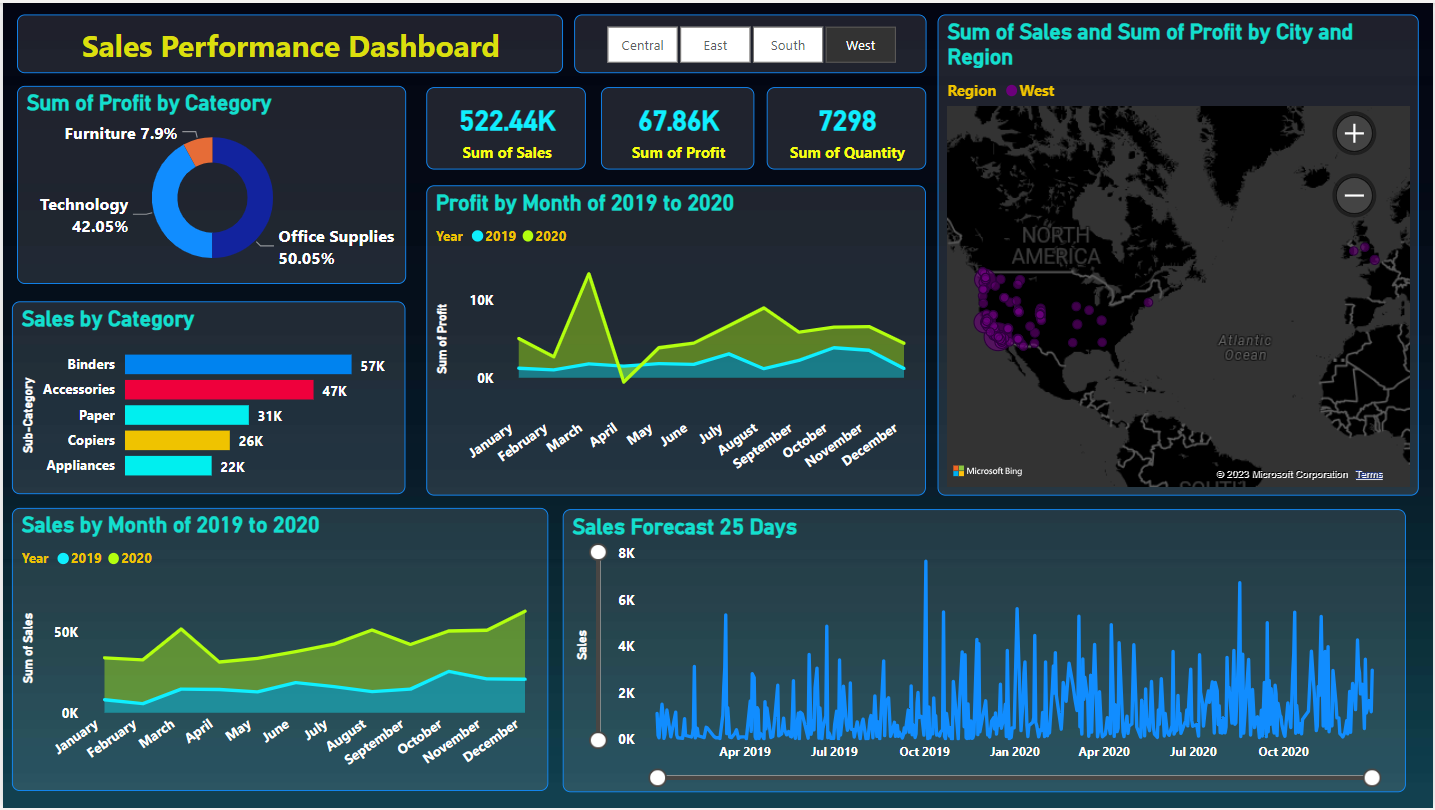

What the dashboard file says about the page in this screenshot:
{"tool":"powerbi","page":{"name":"Page 1","canvas":[1280,720],"ordinal":0},"visuals":[{"type":"clusteredBarChart","title":"Sales by Category","fields":{"Category":["SuperStore_Sales_Dataset.Sub-Category"],"Y":["Sum(SuperStore_Sales_Dataset.Sales)"]},"box":[8.5,267.5,352.4,172.7],"z":0},{"type":"stackedAreaChart","title":"Profit by Month of 2019 to 2020","fields":{"Category":["SuperStore_Sales_Dataset.Order Date.Variation.Date Hierarchy.Month","SuperStore_Sales_Dataset.Order Date.Variation.Date Hierarchy.Day"],"Series":["SuperStore_Sales_Dataset.Order Date.Variation.Date Hierarchy.Year"],"Y":["Sum(SuperStore_Sales_Dataset.Profit)"]},"box":[379.3,162.8,447.3,277.4],"z":1000},{"type":"stackedAreaChart","title":"Sales by Month of 2019 to 2020","fields":{"Category":["SuperStore_Sales_Dataset.Order Date.Variation.Date Hierarchy.Month","SuperStore_Sales_Dataset.Order Date.Variation.Date Hierarchy.Day"],"Series":["SuperStore_Sales_Dataset.Order Date.Variation.Date Hierarchy.Year"],"Y":["Sum(SuperStore_Sales_Dataset.Sales)"]},"box":[8.5,451.5,479.8,253.4],"z":2000},{"type":"map","fields":{"Category":["SuperStore_Sales_Dataset.City"],"Size":["Sum(SuperStore_Sales_Dataset.Sales)"],"Series":["SuperStore_Sales_Dataset.Region"]},"box":[836.5,9.9,430.3,430.3],"z":3000},{"type":"donutChart","fields":{"Y":["Sum(SuperStore_Sales_Dataset.Profit)"],"Category":["SuperStore_Sales_Dataset.Category"]},"box":[12.7,73.6,348.2,176.9],"z":4000},{"type":"textbox","box":[12.7,9.9,488.3,52.4],"z":5000},{"type":"slicer","fields":{"Values":["SuperStore_Sales_Dataset.Region"]},"box":[511,9.9,315.6,52.4],"z":6000},{"type":"card","fields":{"Values":["Sum(SuperStore_Sales_Dataset.Sales)"]},"box":[379.3,75,143,73.6],"z":7000},{"type":"card","fields":{"Values":["Sum(SuperStore_Sales_Dataset.Profit)"]},"box":[535,75,137.3,73.6],"z":8000},{"type":"card","fields":{"Values":["Sum(SuperStore_Sales_Dataset.Quantity)"]},"box":[683.7,75,143,73.6],"z":9000},{"type":"lineChart","title":"Sales Forecast 25 Days","fields":{"Category":["SuperStore_Sales_Dataset.Order Date"],"Y":["Sum(SuperStore_Sales_Dataset.Sales)"]},"box":[500.9,451.8,765.6,253.3],"z":10000}]}

Visuals, with their boxes in screenshot pixels (x1, y1, x2, y2), scaled from the page's 1280x720 canvas onto the 1435x810 screenshot:
"Sales by Category" clusteredBarChart: (10,301,405,495)
"Profit by Month of 2019 to 2020" stackedAreaChart: (425,183,927,495)
"Sales by Month of 2019 to 2020" stackedAreaChart: (10,508,547,793)
map - SuperStore_Sales_Dataset.City x Sum(SuperStore_Sales_Dataset.Sales): (938,11,1420,495)
donutChart - Sum(SuperStore_Sales_Dataset.Profit) x SuperStore_Sales_Dataset.Category: (14,83,405,282)
textbox: (14,11,562,70)
slicer - SuperStore_Sales_Dataset.Region: (573,11,927,70)
card - Sum(SuperStore_Sales_Dataset.Sales): (425,84,586,167)
card - Sum(SuperStore_Sales_Dataset.Profit): (600,84,754,167)
card - Sum(SuperStore_Sales_Dataset.Quantity): (766,84,927,167)
"Sales Forecast 25 Days" lineChart: (562,508,1420,793)
